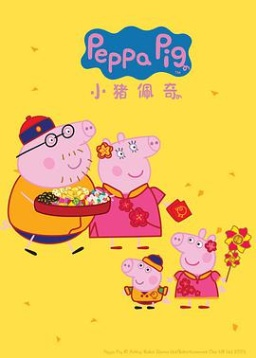Peppa: (167, 228, 227, 311)
